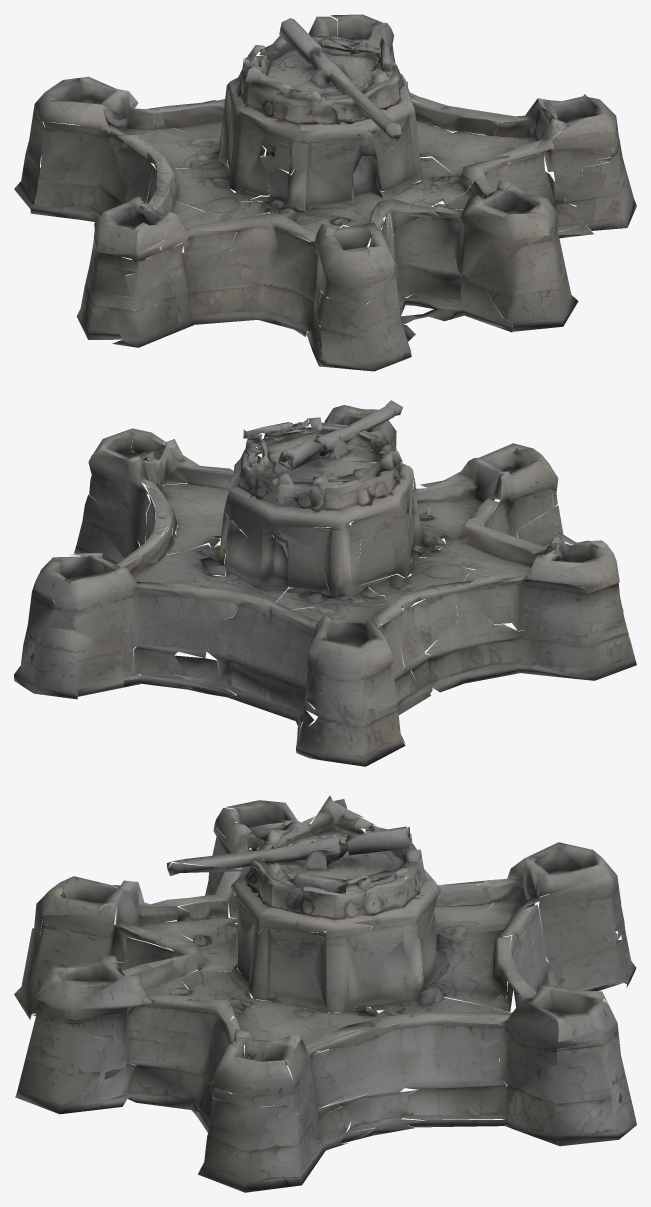
File: fortress_lod1.glb
3 renders of one model, top to bottom at view 1: azimuth 30°, elevation 25°; view 2: azimuth 150°, elevation 25°; view 3: azimuth 270°, elevation 25°, orthographic. The views are drawn at different scales.
Visible parts, largest first — view 1: body; view 2: body; view 3: body.
Part boxes in pixels (left/top/right/bottom): body: left=14, top=14, right=636, bottom=371; body: left=14, top=400, right=636, bottom=766; body: left=14, top=795, right=636, bottom=1192.
Size of the model in its own units: 20.54 by 7.2 by 18.49.
Materials: 1 (1 with a texture image).
